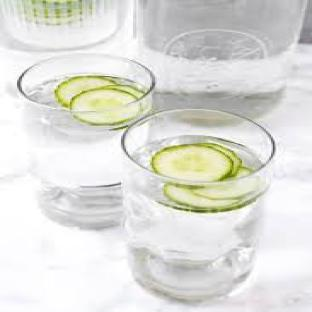Cucumber: (152, 145, 233, 181), (70, 89, 139, 124), (164, 184, 238, 212), (55, 75, 115, 107), (193, 177, 259, 199), (200, 143, 242, 175), (106, 84, 144, 98), (232, 167, 254, 178)
